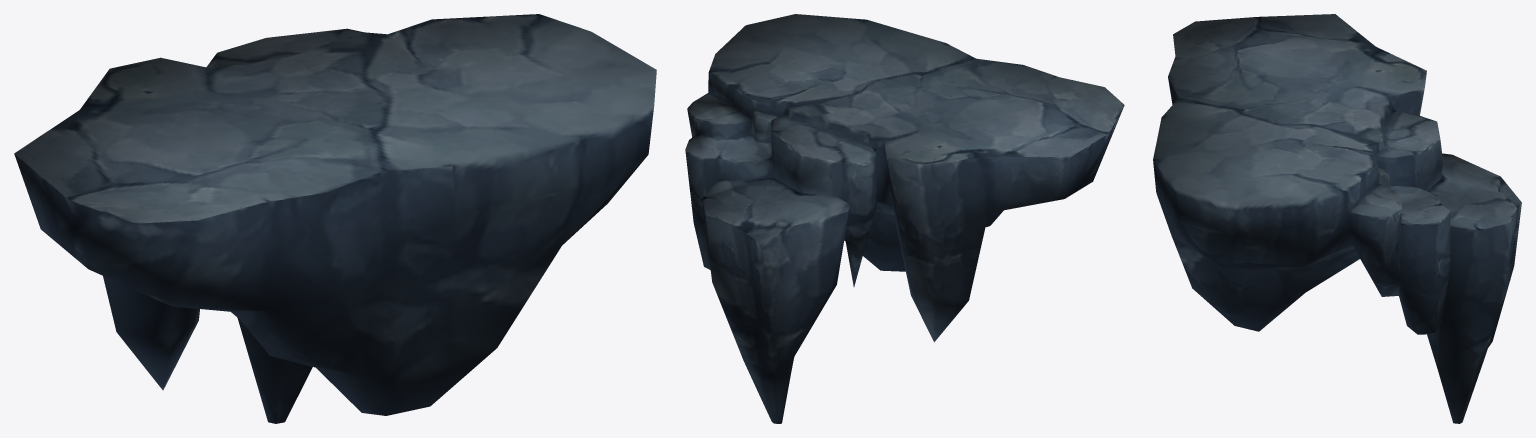
Rendered from Area_04_16.fbx.
3 views of the same model, side by side, from view 1: azimuth 30°, elevation 25°; view 2: azimuth 150°, elevation 25°; view 3: azimuth 270°, elevation 25° (orthographic). The views are drawn at different scales.
Parts seen in each view (by area): view 1: Area_04_16; view 2: Area_04_16; view 3: Area_04_16.
Part boxes in pixels (x1=…): Area_04_16: x1=14, y1=14, x2=656, y2=423; Area_04_16: x1=685, y1=14, x2=1124, y2=423; Area_04_16: x1=1153, y1=14, x2=1521, y2=423.
Size of the model in its own units: 2505 by 1780 by 2044.
